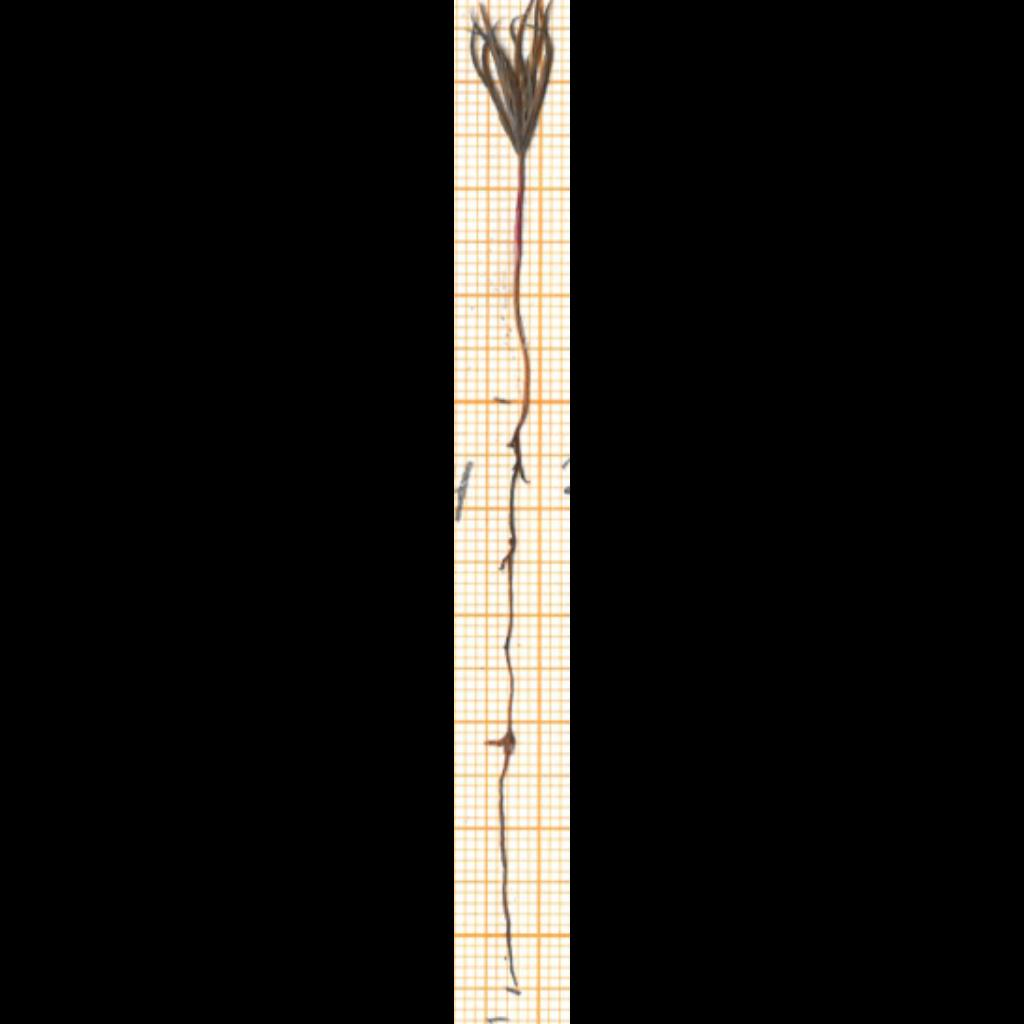flowerPinus: (471, 0, 553, 154)
rootPinus: (488, 421, 525, 986), (516, 438, 518, 438)
stemPinus: (514, 157, 528, 412)
